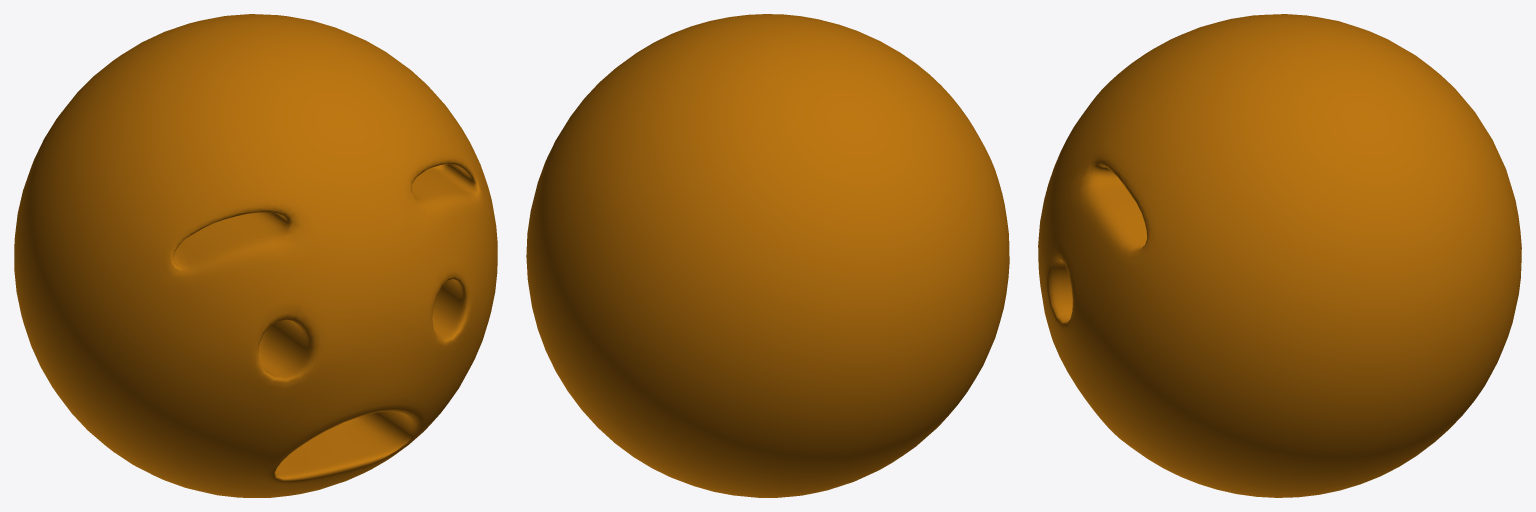
File: fearful.FBX
The picture shows the model from 3 angles, left to right: view 1: azimuth 30°, elevation 25°; view 2: azimuth 150°, elevation 25°; view 3: azimuth 270°, elevation 25°; orthographic projection.
Visible parts, largest first — view 1: Group40013; view 2: Group40013; view 3: Group40013.
Part boxes in pixels (<box>): Group40013: <box>14,14,497,497</box>; Group40013: <box>526,14,1009,497</box>; Group40013: <box>1038,14,1521,497</box>.
Bounding box in the file's own units: 23.67 × 23.63 × 23.67.
